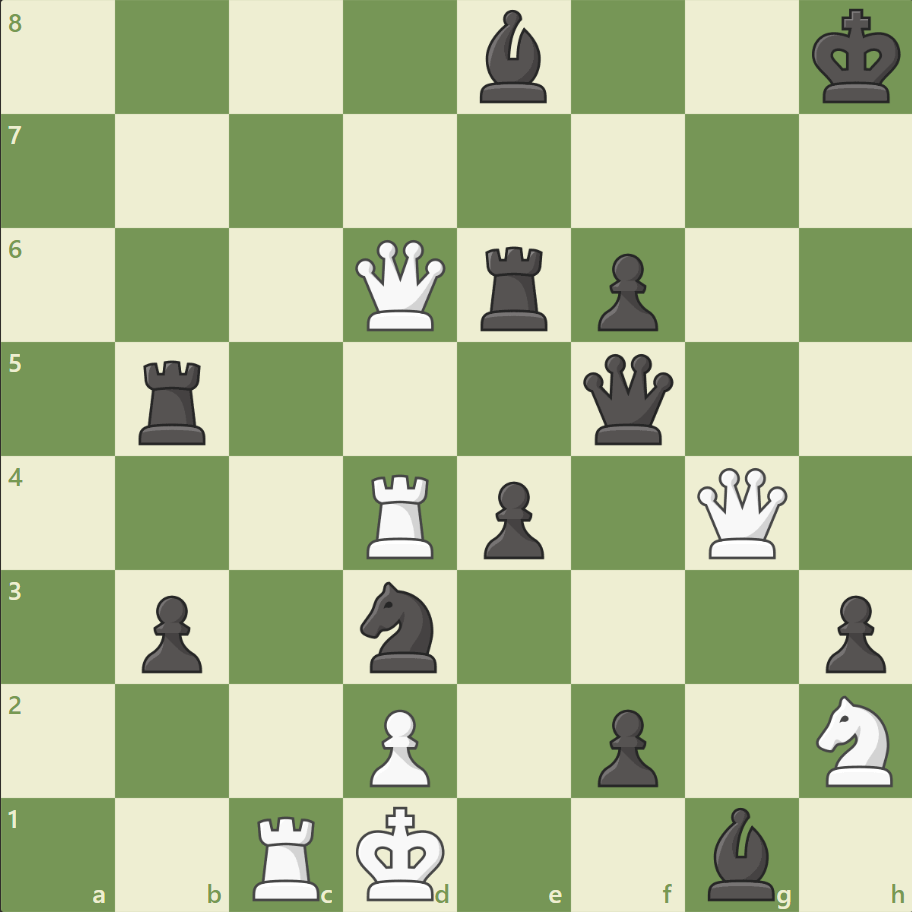K: (351, 798, 451, 906)
N: (806, 688, 903, 791)
P: (361, 700, 435, 791)
Q: (351, 236, 450, 335), (691, 463, 790, 562)
R: (246, 806, 329, 904), (360, 466, 442, 563)
b: (471, 6, 555, 109), (698, 801, 782, 904)
k: (806, 4, 906, 112)
n: (351, 575, 449, 677)
p: (474, 473, 549, 564), (133, 586, 208, 677), (588, 246, 662, 337), (815, 586, 889, 677), (588, 700, 662, 791)
q: (578, 349, 677, 449)
r: (473, 239, 556, 336), (133, 352, 215, 449)
